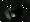person: (6, 8, 12, 21), (12, 8, 18, 17)
